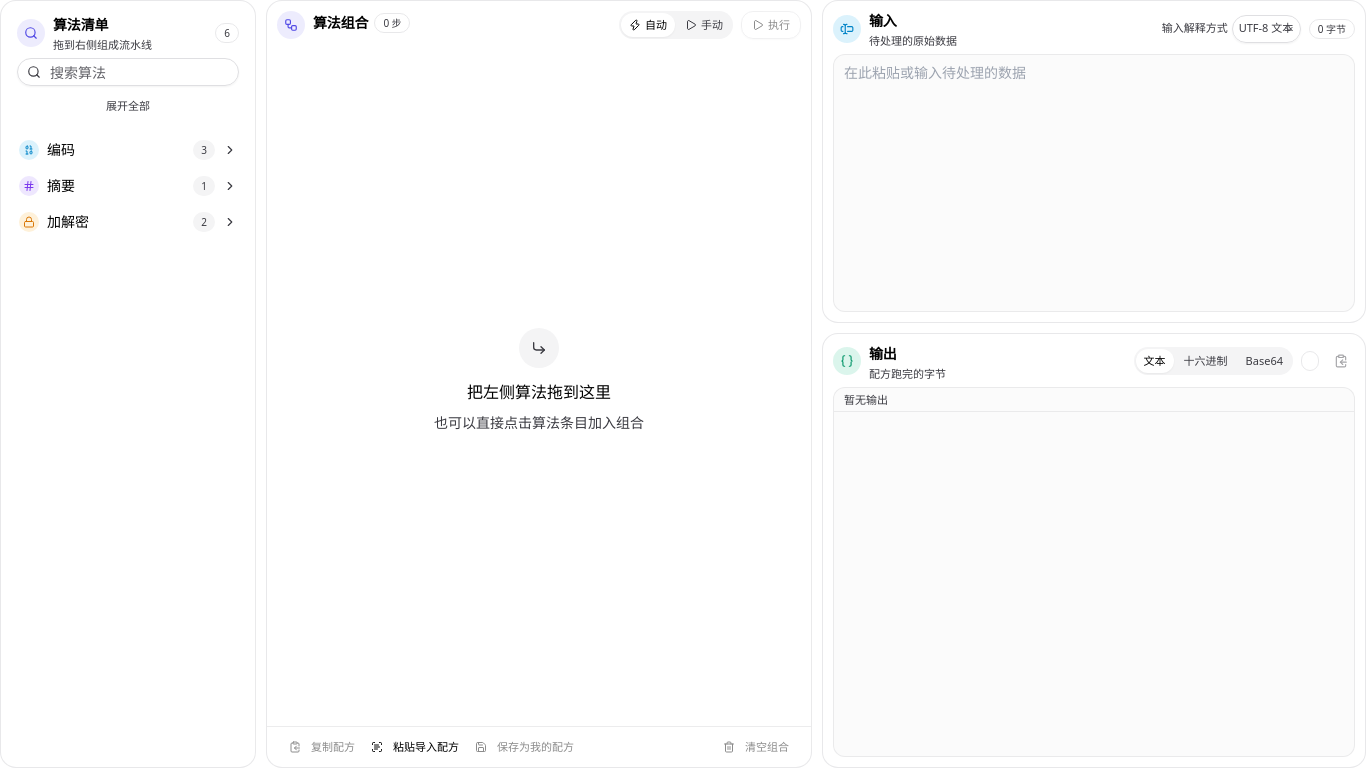
配方编排 › 点条目加入组合，参数用注册表默认值发给后端
Click the button "展开全部". click: (128, 106)
box: [17,94,239,118]
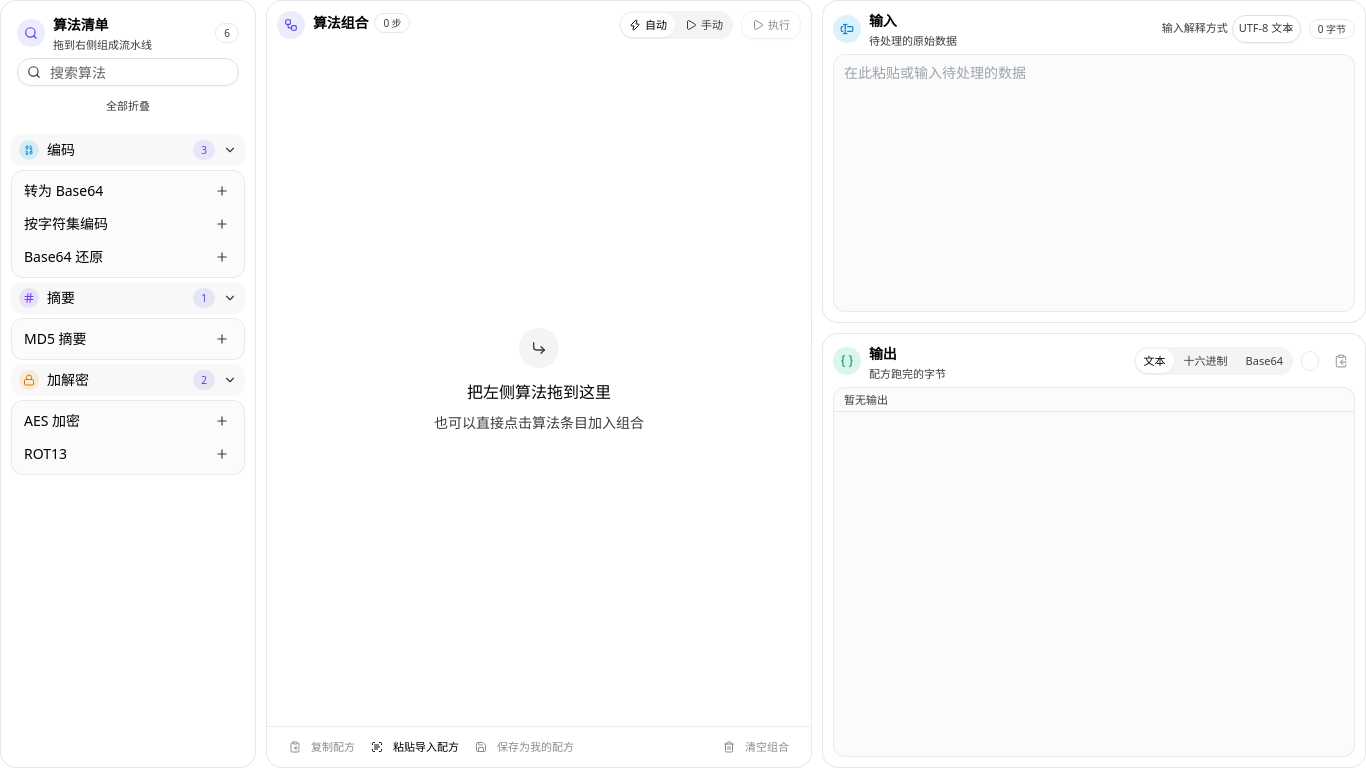
Click the button named "转为 Base64". click: (222, 191)
box: [212,181,232,201]
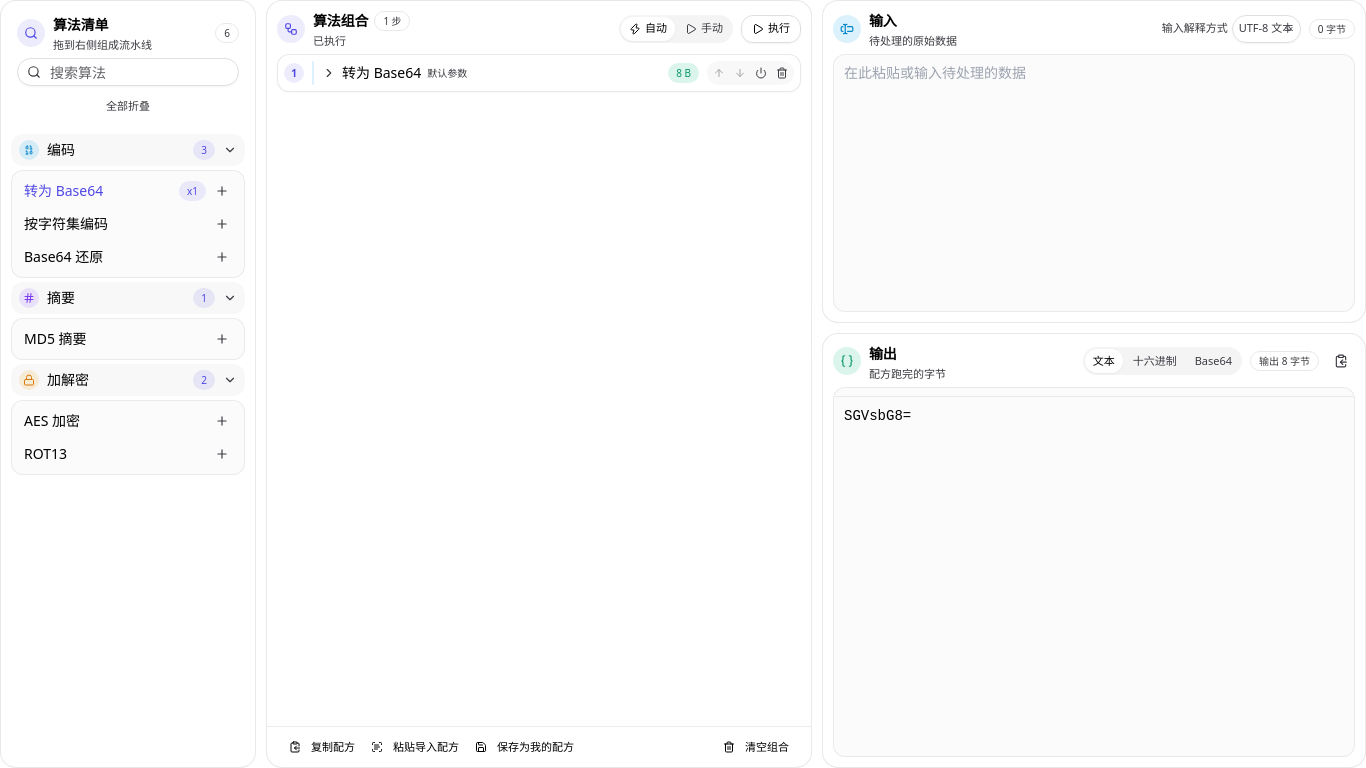
Now the number of list items with test id "chef-step" is 1, box [277,54,801,92]
Now the list item with test id "chef-step" shows "转为 Base64", box [322,61,631,85]
